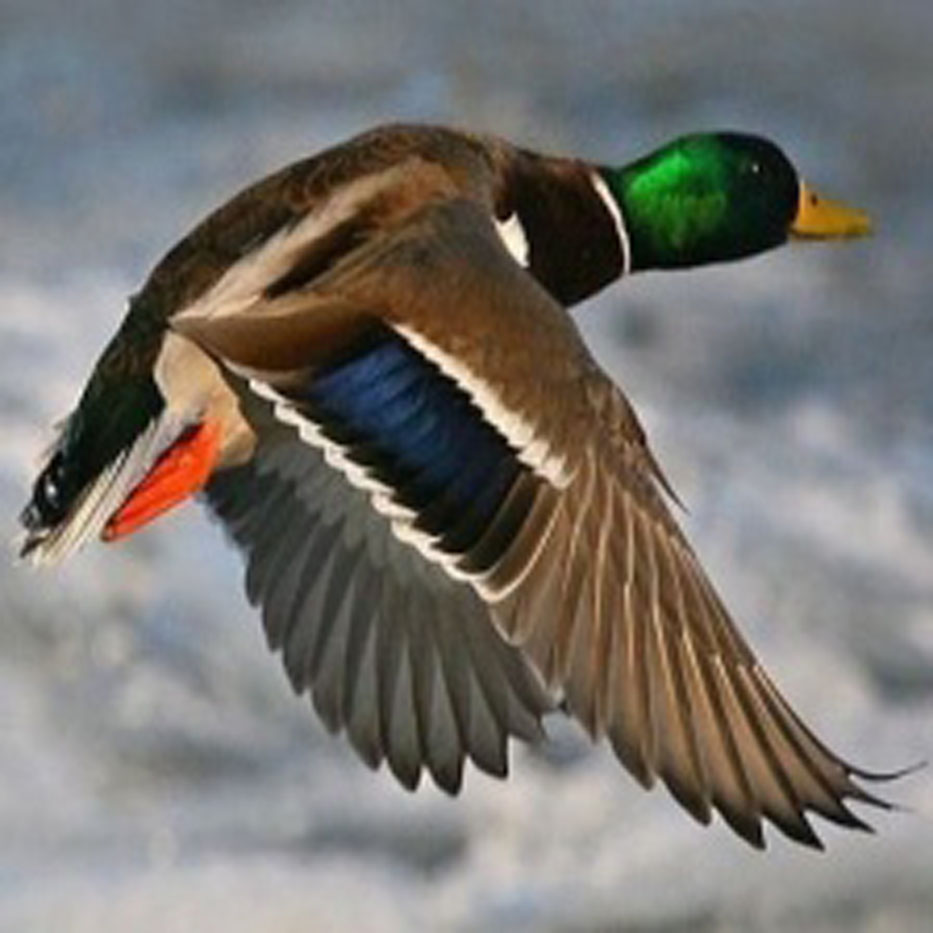Mencari Makan di Lumpur: (790, 188, 883, 259)
